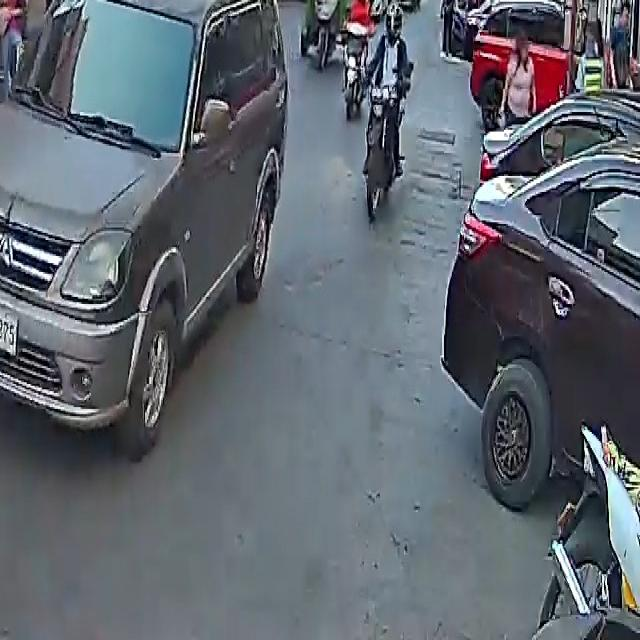car: (0, 0, 299, 443), (445, 101, 640, 520), (460, 0, 640, 117)
